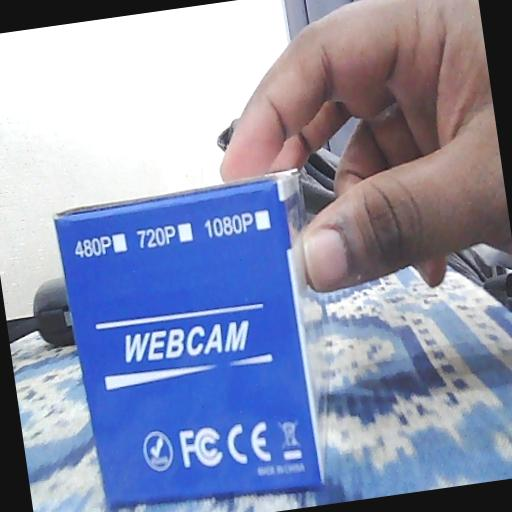webcam_box: (49, 167, 349, 512)
